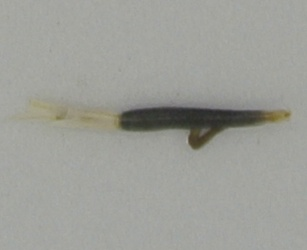เมล็ดงอกแตก: (14, 98, 291, 149)
